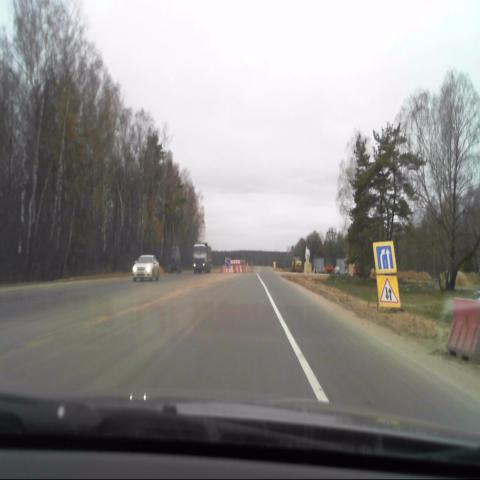1_21: (376, 276, 400, 310)
